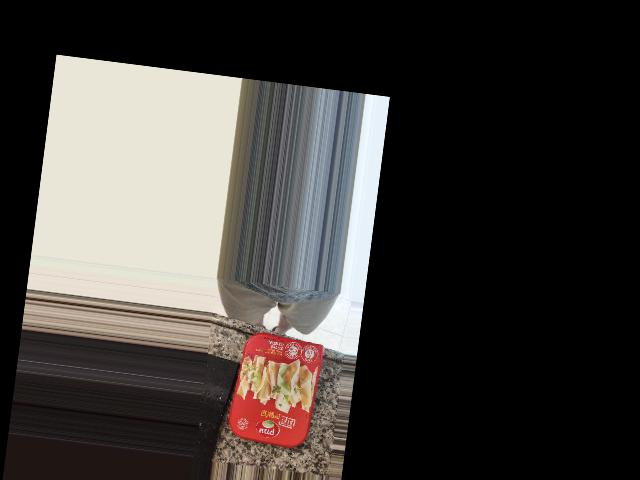cheese: (227, 328, 328, 448)
